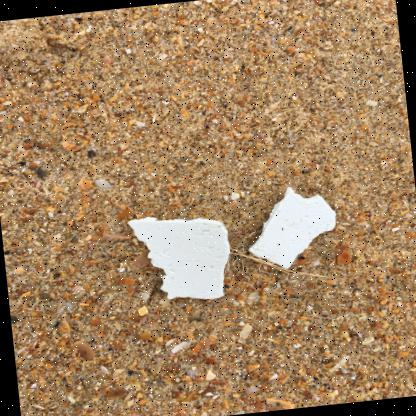Styrofoam piece: (127, 216, 230, 299), (248, 186, 335, 269)
